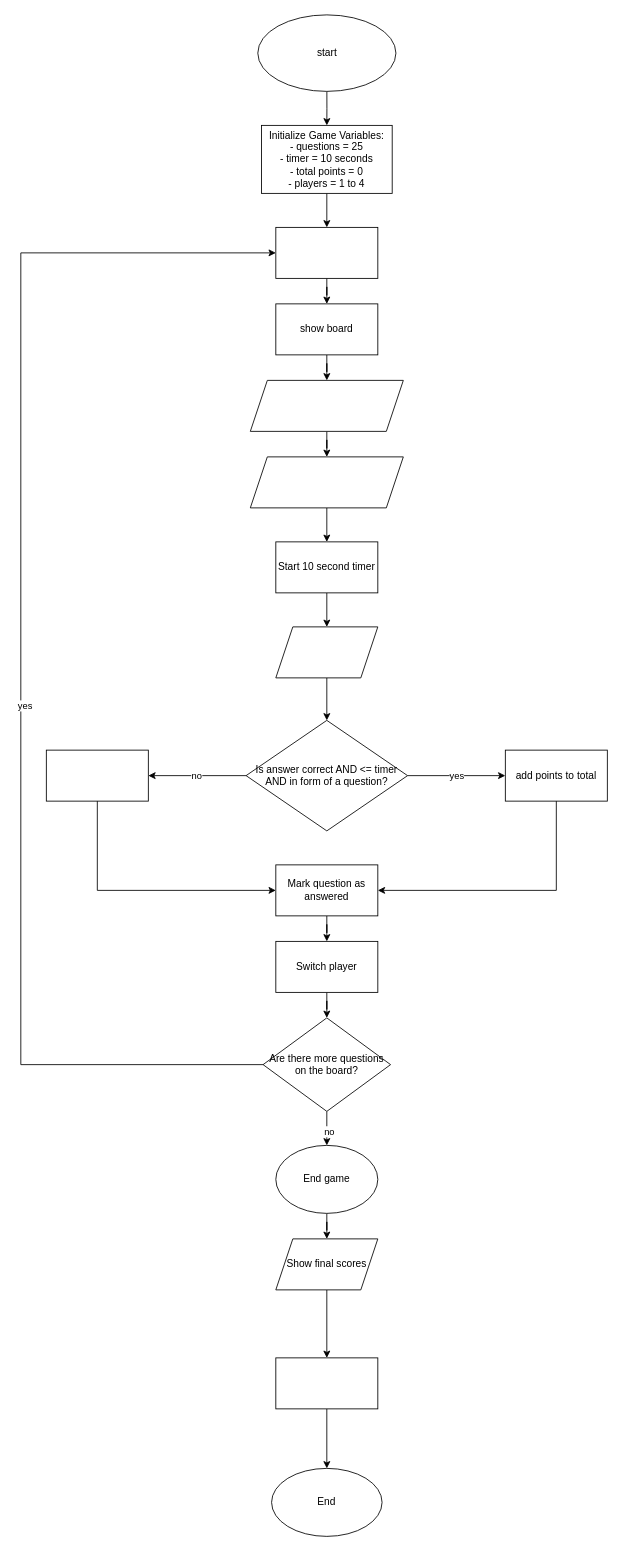
The diagram is 622 pixels wide and 1551 high, and some of its shapes have lost their labels. Each missing label, with the centre of its shape:
"Declare winner" belongs at pixel 326 1383.
"Deduct points from total" belongs at pixel 96 775.
"get player answer" belongs at pixel 326 652.
"Prompt current player for category + value" belongs at pixel 326 405.
"show question" belongs at pixel 326 482.
"while questions remain" belongs at pixel 326 252.
